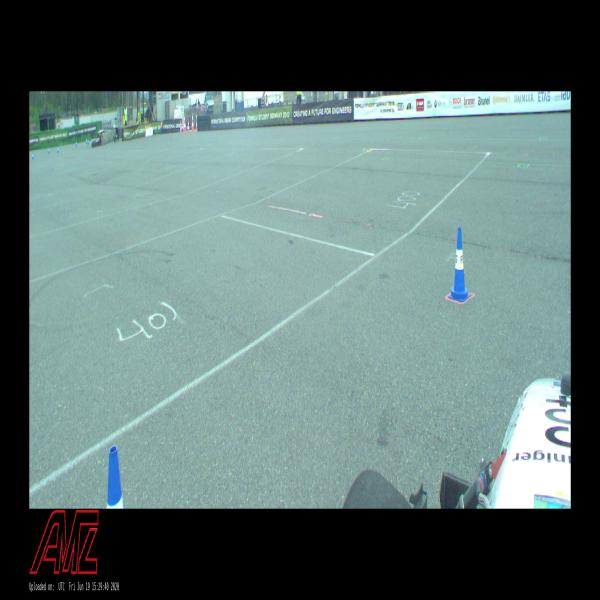blue_cone: (448, 227, 470, 302), (107, 445, 123, 509), (32, 152, 34, 160), (57, 146, 59, 153), (48, 147, 50, 154), (182, 125, 184, 132), (186, 125, 188, 131), (76, 140, 77, 147), (88, 138, 89, 145), (86, 138, 87, 144)
large_orange_cone: (192, 113, 194, 132), (184, 114, 186, 132), (180, 120, 182, 132), (196, 112, 197, 131), (188, 119, 189, 132)
